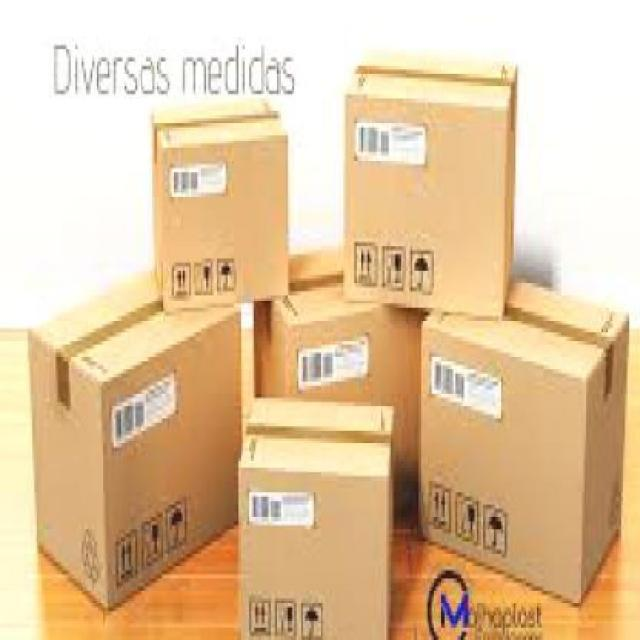box: (19, 263, 245, 620), (420, 258, 636, 620), (338, 49, 524, 320), (236, 380, 399, 636), (149, 103, 295, 309)
